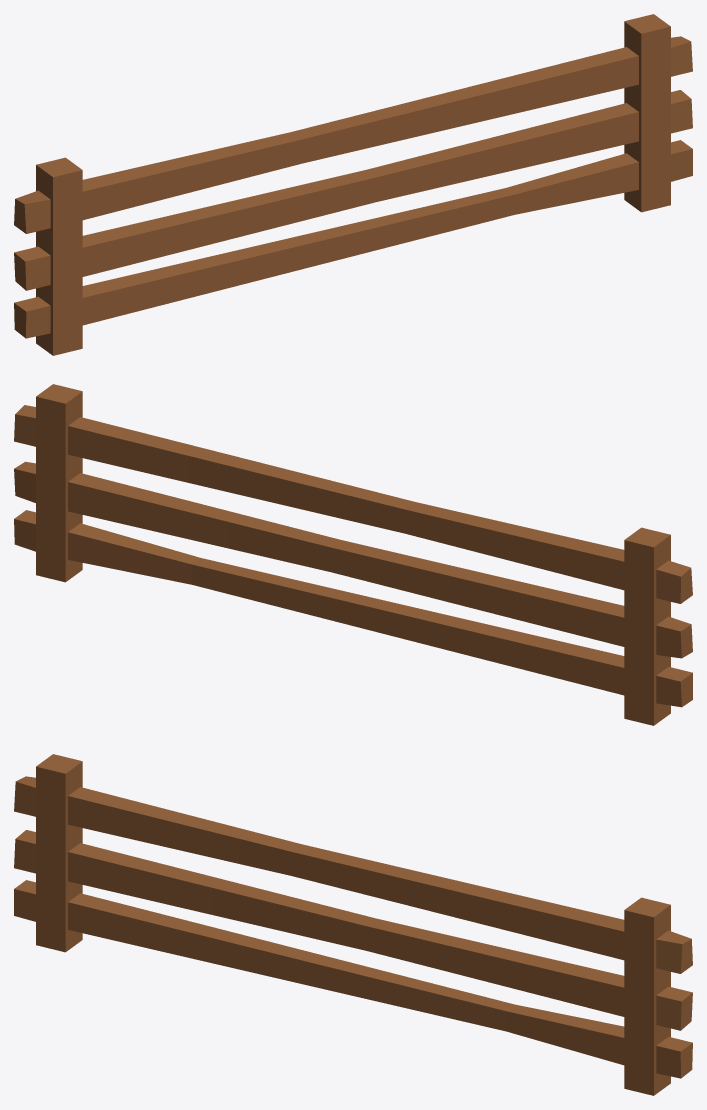
Rendered from Fence.fbx.
3 views of the same model, one above another, from view 1: azimuth 30°, elevation 25°; view 2: azimuth 150°, elevation 25°; view 3: azimuth 330°, elevation 25° (orthographic).
Visible parts, largest first — view 1: Fence; view 2: Fence; view 3: Fence.
Boxes of the visible parts, <box> form: Fence: <box>14,14,692,355</box>; Fence: <box>14,384,692,725</box>; Fence: <box>14,754,692,1095</box>.
Size of the model in its own units: 3.4 by 0.8685 by 0.1514.
